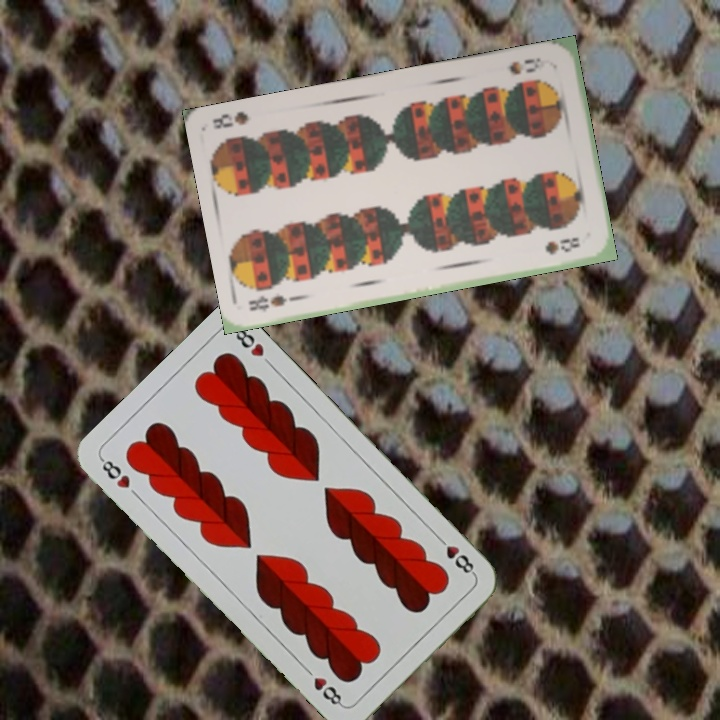H8: (432, 532, 478, 578), (96, 454, 133, 491)
S8: (245, 291, 303, 315), (505, 53, 553, 78)
